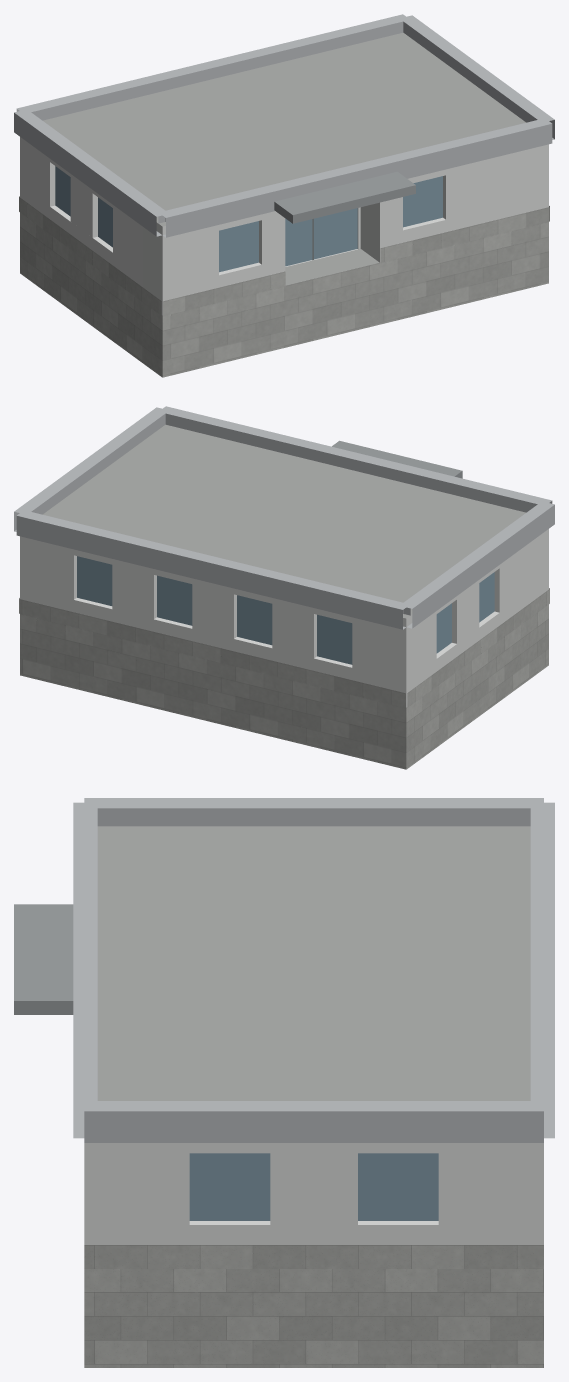
3 views of the same model, one above another, from view 1: azimuth 30°, elevation 25°; view 2: azimuth 150°, elevation 25°; view 3: azimuth 270°, elevation 25° (orthographic). The views are drawn at different scales.
Visible parts, largest first — view 1: wasteStorageE18_2__roof, wasteStorageE18_2__base, wasteStorageE18_2__trim, wasteStorageE18_2__wall, wasteStorageE18_2__glass, wasteStorageE18_2__canopy; view 2: wasteStorageE18_2__roof, wasteStorageE18_2__base, wasteStorageE18_2__wall, wasteStorageE18_2__trim, wasteStorageE18_2__glass, wasteStorageE18_2__canopy; view 3: wasteStorageE18_2__roof, wasteStorageE18_2__base, wasteStorageE18_2__trim, wasteStorageE18_2__wall, wasteStorageE18_2__glass, wasteStorageE18_2__canopy.
Boxes of the visible parts, left/top/right/bottom form: wasteStorageE18_2__roof: left=43, top=32, right=525, bottom=285; wasteStorageE18_2__base: left=19, top=196, right=549, bottom=377; wasteStorageE18_2__trim: left=14, top=14, right=554, bottom=237; wasteStorageE18_2__wall: left=20, top=137, right=548, bottom=315; wasteStorageE18_2__glass: left=55, top=166, right=442, bottom=272; wasteStorageE18_2__canopy: left=274, top=171, right=415, bottom=223; wasteStorageE18_2__roof: left=43, top=424, right=525, bottom=618; wasteStorageE18_2__base: left=19, top=588, right=549, bottom=769; wasteStorageE18_2__wall: left=20, top=529, right=548, bottom=707; wasteStorageE18_2__trim: left=14, top=406, right=554, bottom=629; wasteStorageE18_2__glass: left=77, top=556, right=494, bottom=664; wasteStorageE18_2__canopy: left=332, top=440, right=462, bottom=478; wasteStorageE18_2__roof: left=97, top=826, right=530, bottom=1100; wasteStorageE18_2__base: left=84, top=1245, right=543, bottom=1367; wasteStorageE18_2__trim: left=73, top=798, right=554, bottom=1142; wasteStorageE18_2__wall: left=84, top=1143, right=543, bottom=1244; wasteStorageE18_2__glass: left=189, top=1153, right=438, bottom=1220; wasteStorageE18_2__canopy: left=14, top=904, right=73, bottom=1014.
Bounding box in the file's own units: 16.83 × 6.55 × 12.29.
8 materials, 1 textured.
